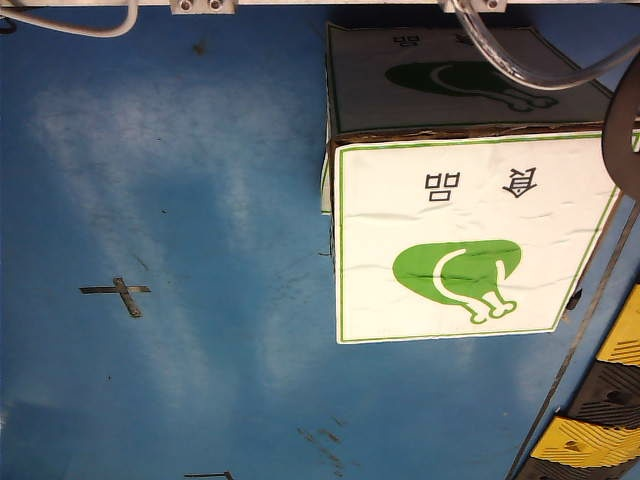Cube_food: (383, 165, 556, 332)
